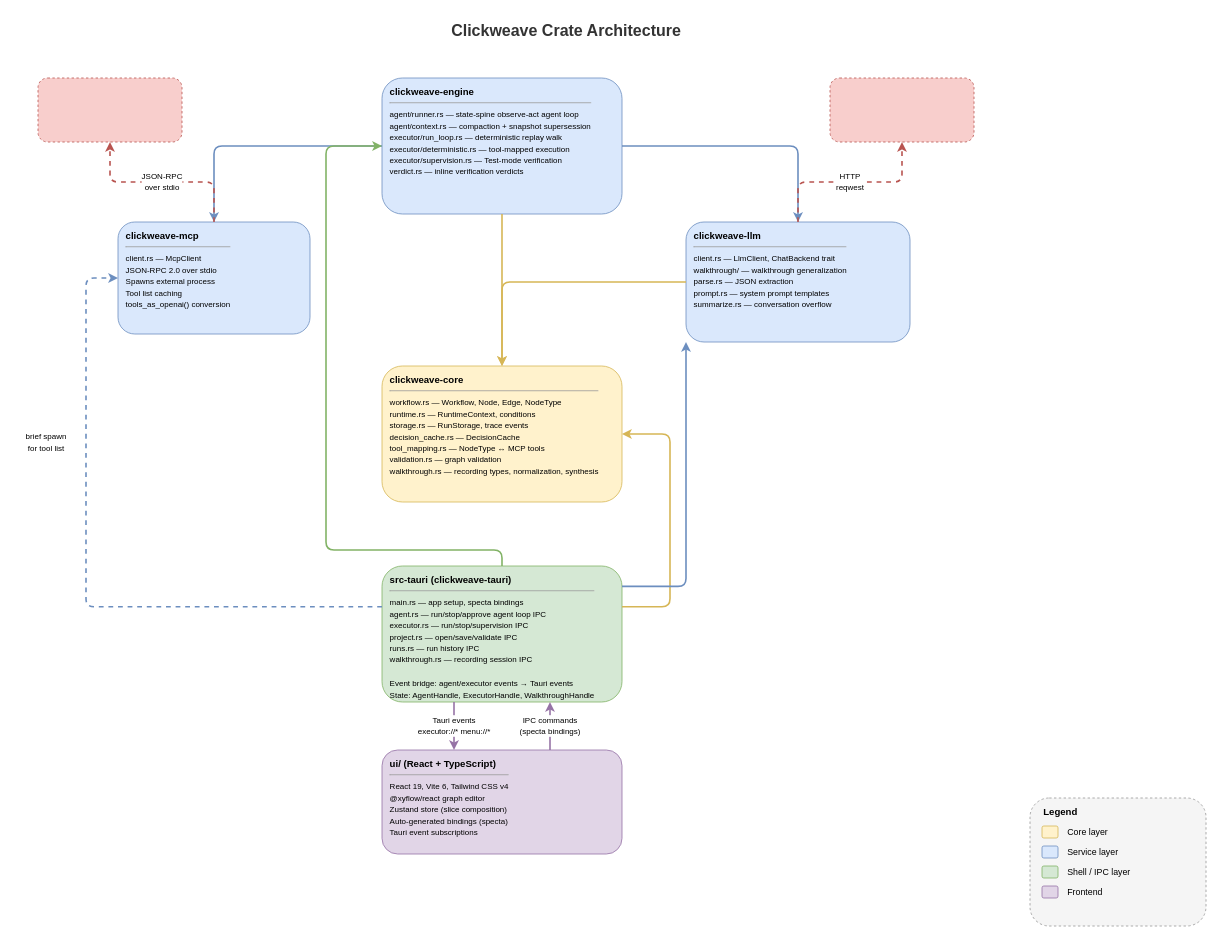
The diagram is 1220 pixels wide and 940 high, and some of its shapes have lost their labels. The shapes that lost their labels are listed below. From the top down, each one's centre as x and y in pixels, then its label:
At pixel 109 109: "native-devtools-mcp External process (npx or binary)".
At pixel 901 109: "LLM API OpenAI-compatible /v1/chat/completions".
